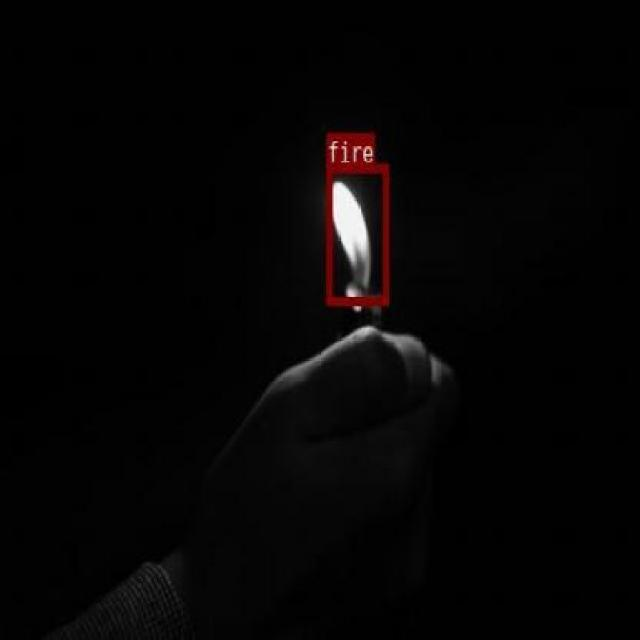fire: (325, 164, 387, 302)
